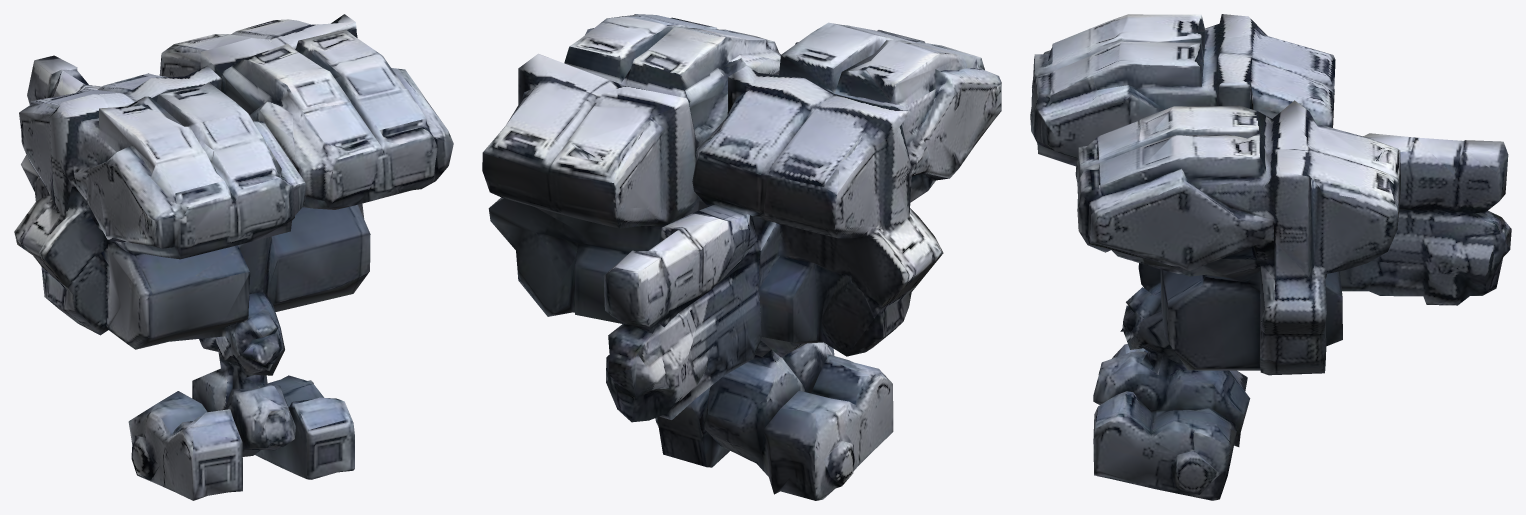
File: wpn_hv_quad_launcher.glb
The picture shows the model from 3 angles, left to right: view 1: azimuth 30°, elevation 25°; view 2: azimuth 150°, elevation 25°; view 3: azimuth 270°, elevation 25°; orthographic projection. The views are drawn at different scales.
Visible parts, largest first — view 1: wpn_hv_quad_launcher; view 2: wpn_hv_quad_launcher; view 3: wpn_hv_quad_launcher.
Part boxes in pixels (left/top/right/bottom): wpn_hv_quad_launcher: left=14, top=14, right=453, bottom=500; wpn_hv_quad_launcher: left=482, top=14, right=1001, bottom=500; wpn_hv_quad_launcher: left=1030, top=14, right=1511, bottom=500.
Size of the model in its own units: 0.3573 by 0.3652 by 0.41.
1 material, 1 textured.
